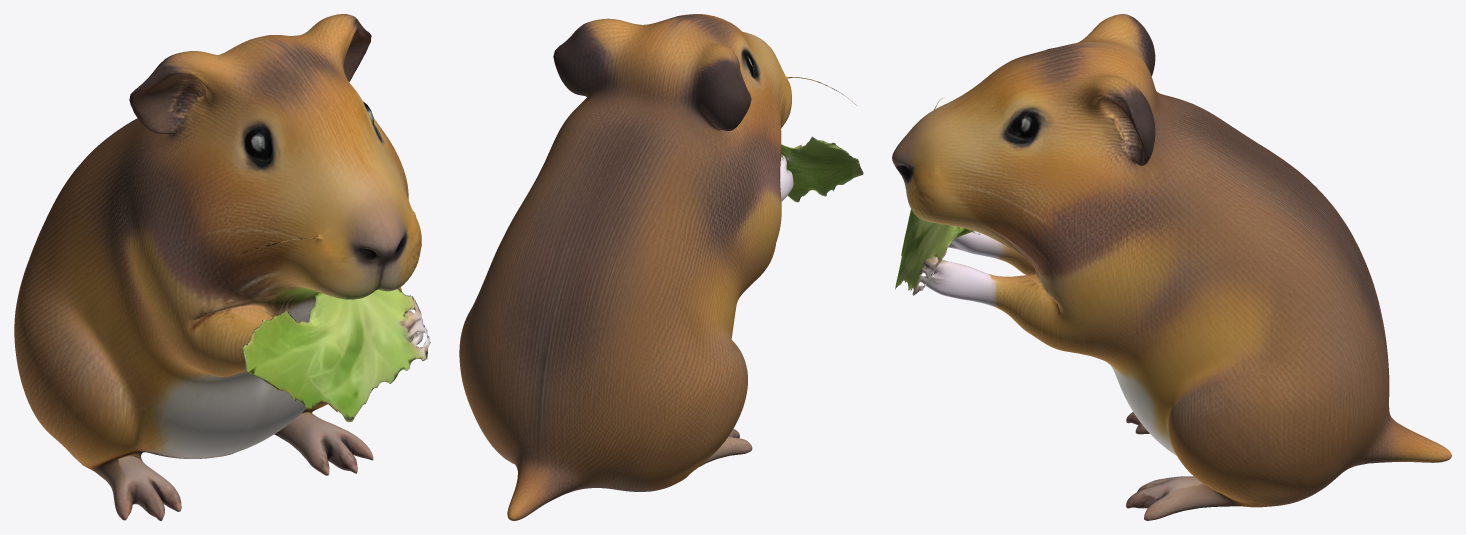
The model's file is guinea_pig_eating.glb.
3 views of the same model, side by side, from view 1: azimuth 30°, elevation 25°; view 2: azimuth 150°, elevation 25°; view 3: azimuth 270°, elevation 25° (orthographic). The views are drawn at different scales.
Visible parts, largest first — view 1: model; view 2: model; view 3: model.
Boxes of the visible parts, <box> form: model: <box>14,14,430,520</box>; model: <box>459,14,863,520</box>; model: <box>892,14,1451,520</box>.
Size of the model in its own units: 1.1 by 1.57 by 1.9.
1 material, 1 textured.
